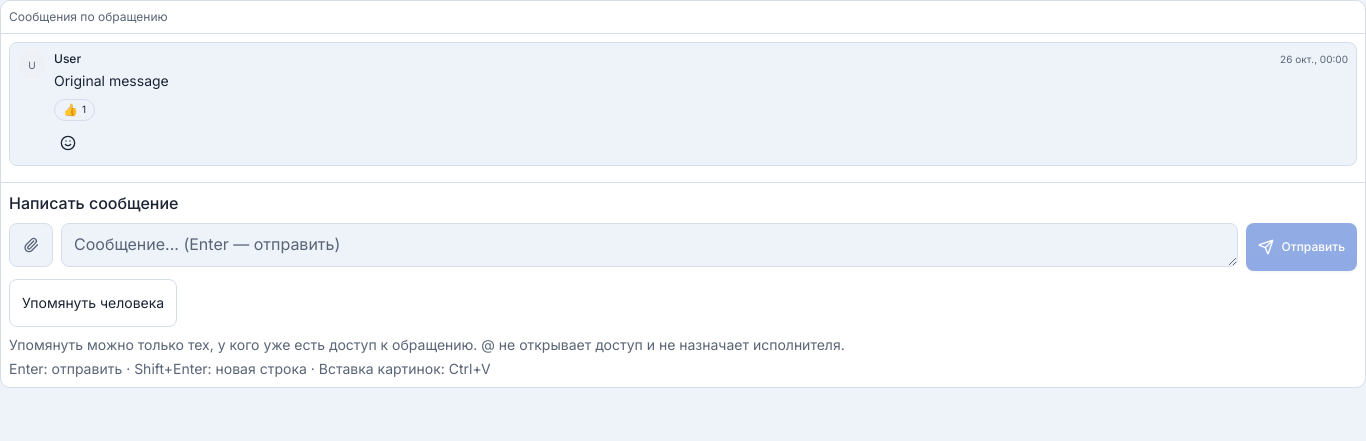
Test: reports a refused request reaction instead of silently dropping it
Expected: the text "Original message" is shown, [54, 72, 169, 89]
Click the button named "👍1": {"x": 74, "y": 110} [54, 99, 95, 121]
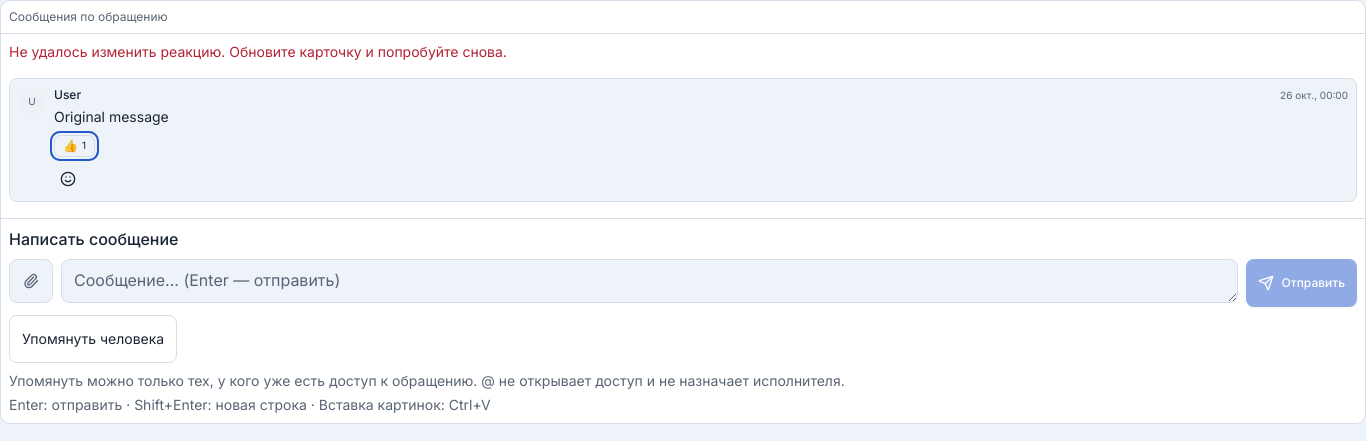
Result: the message shows "Не удалось изменить реакцию" at [9, 43, 507, 60]
